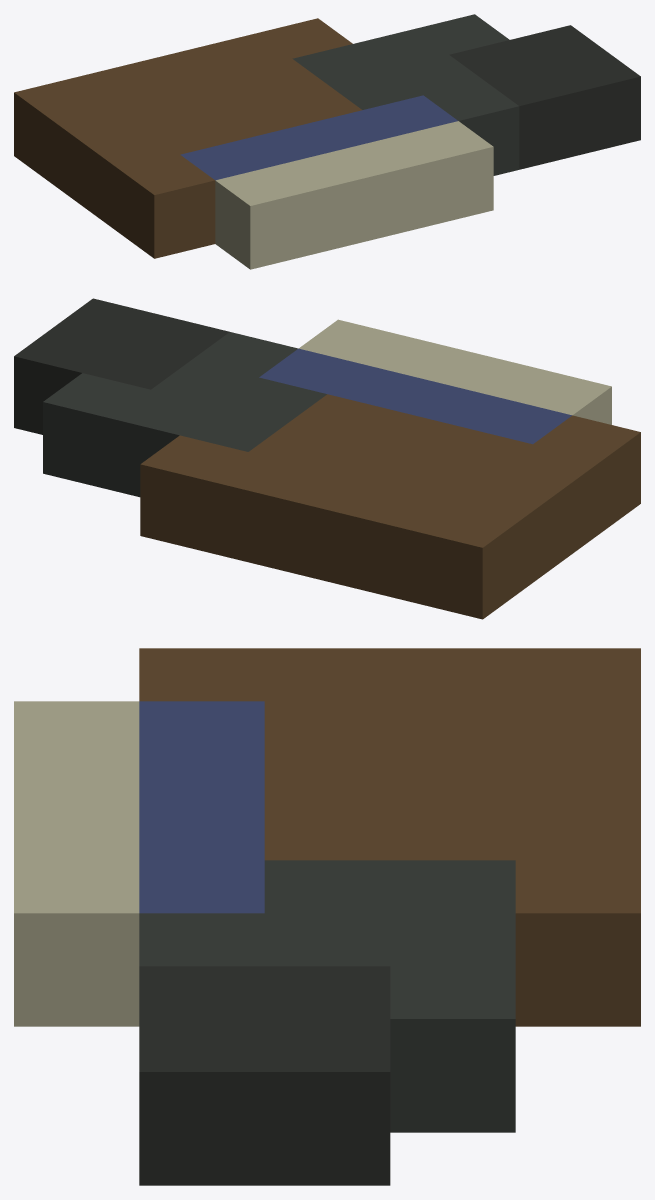
File: female_wing.glb
The picture shows the model from 3 angles, top to bottom: view 1: azimuth 30°, elevation 25°; view 2: azimuth 150°, elevation 25°; view 3: azimuth 270°, elevation 25°; orthographic projection. The views are drawn at different scales.
Parts seen in each view (by area): view 1: female_wing; view 2: female_wing; view 3: female_wing.
Part boxes in pixels (bbox=[...]): female_wing: bbox=[14, 14, 640, 269]; female_wing: bbox=[14, 298, 640, 619]; female_wing: bbox=[14, 648, 640, 1185].
Bounding box in the file's own units: 1 × 0.125 × 0.625.
